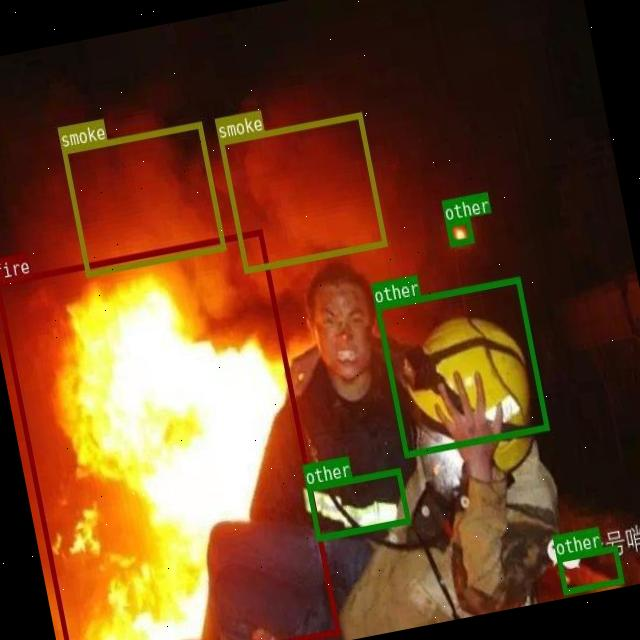fire: (0, 227, 340, 640)
smoke: (219, 112, 387, 272), (61, 121, 226, 276)
